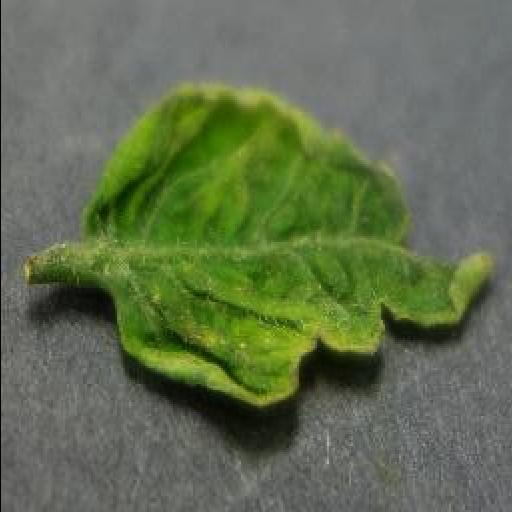disease_tomato: (92, 86, 498, 412)
